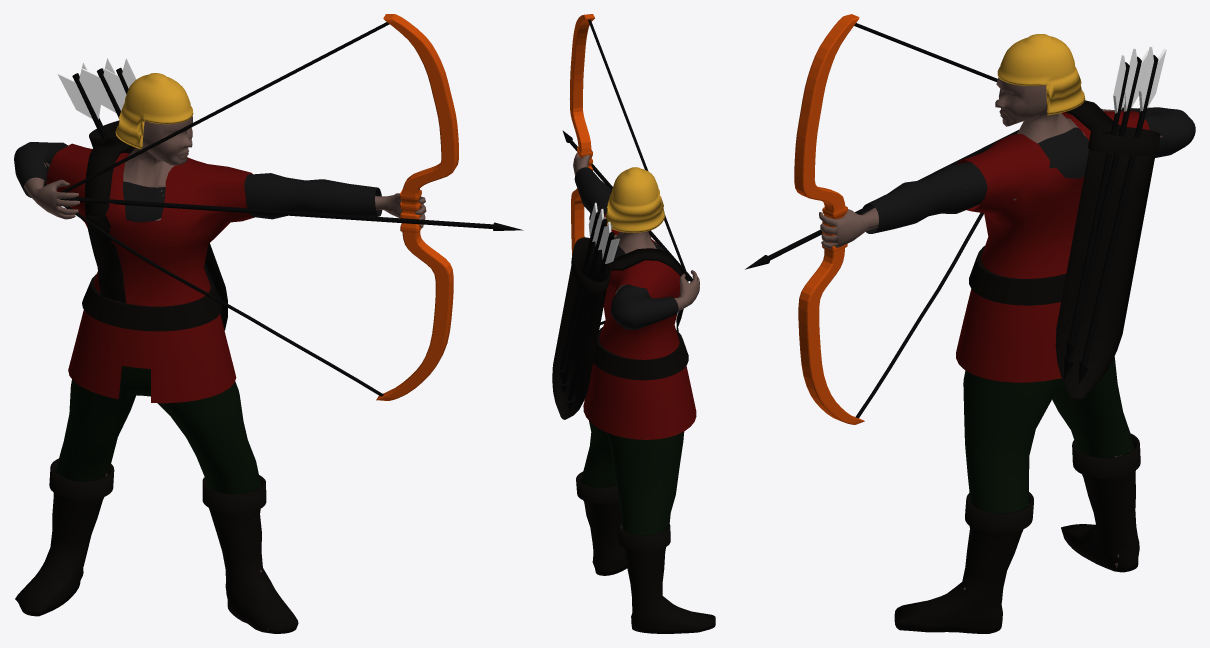
Rendered from archer7.obj.
3 renders of one model, left to right at view 1: azimuth 30°, elevation 25°; view 2: azimuth 150°, elevation 25°; view 3: azimuth 270°, elevation 25°, orthographic. The views are drawn at different scales.
Visible parts, largest first — view 1: jacket_Circle.003, pants_Circle.002, Cylinder, boot_left_Circle.001, boot_right_Circle, Human.000_body.000, Circle.004, Plane.002_Plane.004, Circle.006, Circle.007, Cylinder.003, Circle.005 (+6 smaller); view 2: jacket_Circle.003, pants_Circle.002, boot_right_Circle, Circle.008, Circle.007, boot_left_Circle.001, Cylinder, Circle.006, Circle.005, Human.000_body.000, Circle.004, Plane.002_Plane.004 (+6 smaller); view 3: jacket_Circle.003, pants_Circle.002, Circle.008, Cylinder, boot_left_Circle.001, boot_right_Circle, Circle.004, Human.000_body.000, Circle.007, Circle.006, Cylinder.004, Circle.005 (+9 smaller).
Part boxes in pixels (x1=…): jacket_Circle.003: x1=44, y1=143, x2=254, y2=403; pants_Circle.002: x1=56, y1=366, x2=261, y2=494; Cylinder: x1=376, y1=14, x2=458, y2=400; boot_left_Circle.001: x1=202, y1=475, x2=298, y2=633; boot_right_Circle: x1=15, y1=458, x2=114, y2=616; Human.000_body.000: x1=24, y1=116, x2=426, y2=630; Circle.004: x1=244, y1=173, x2=382, y2=219; Plane.002_Plane.004: x1=85, y1=137, x2=130, y2=302; Circle.006: x1=82, y1=274, x2=222, y2=331; Circle.007: x1=115, y1=73, x2=193, y2=149; Cylinder.003: x1=60, y1=197, x2=523, y2=230; Circle.005: x1=14, y1=142, x2=67, y2=197; jacket_Circle.003: x1=583, y1=214, x2=696, y2=439; pants_Circle.002: x1=580, y1=421, x2=684, y2=535; boot_right_Circle: x1=618, y1=522, x2=715, y2=633; Circle.008: x1=552, y1=237, x2=610, y2=419; Circle.007: x1=605, y1=167, x2=664, y2=232; boot_left_Circle.001: x1=576, y1=471, x2=627, y2=575; Cylinder: x1=569, y1=14, x2=594, y2=255; Circle.006: x1=593, y1=327, x2=688, y2=380; Circle.005: x1=611, y1=284, x2=678, y2=329; Human.000_body.000: x1=573, y1=152, x2=699, y2=533; Circle.004: x1=574, y1=167, x2=611, y2=220; Plane.002_Plane.004: x1=607, y1=248, x2=686, y2=348; jacket_Circle.003: x1=956, y1=111, x2=1149, y2=382; pants_Circle.002: x1=963, y1=356, x2=1134, y2=513; Circle.008: x1=1055, y1=126, x2=1160, y2=399; Cylinder: x1=794, y1=14, x2=864, y2=424; boot_left_Circle.001: x1=894, y1=492, x2=1033, y2=633; boot_right_Circle: x1=1061, y1=433, x2=1140, y2=572; Circle.004: x1=860, y1=162, x2=987, y2=233; Human.000_body.000: x1=819, y1=77, x2=1162, y2=589; Circle.007: x1=997, y1=34, x2=1085, y2=115; Circle.006: x1=969, y1=246, x2=1066, y2=305; Cylinder.004: x1=1079, y1=55, x2=1158, y2=383; Circle.005: x1=1121, y1=107, x2=1195, y2=157.
Size of the model in its own units: 1.36 by 2.33 by 1.45.
